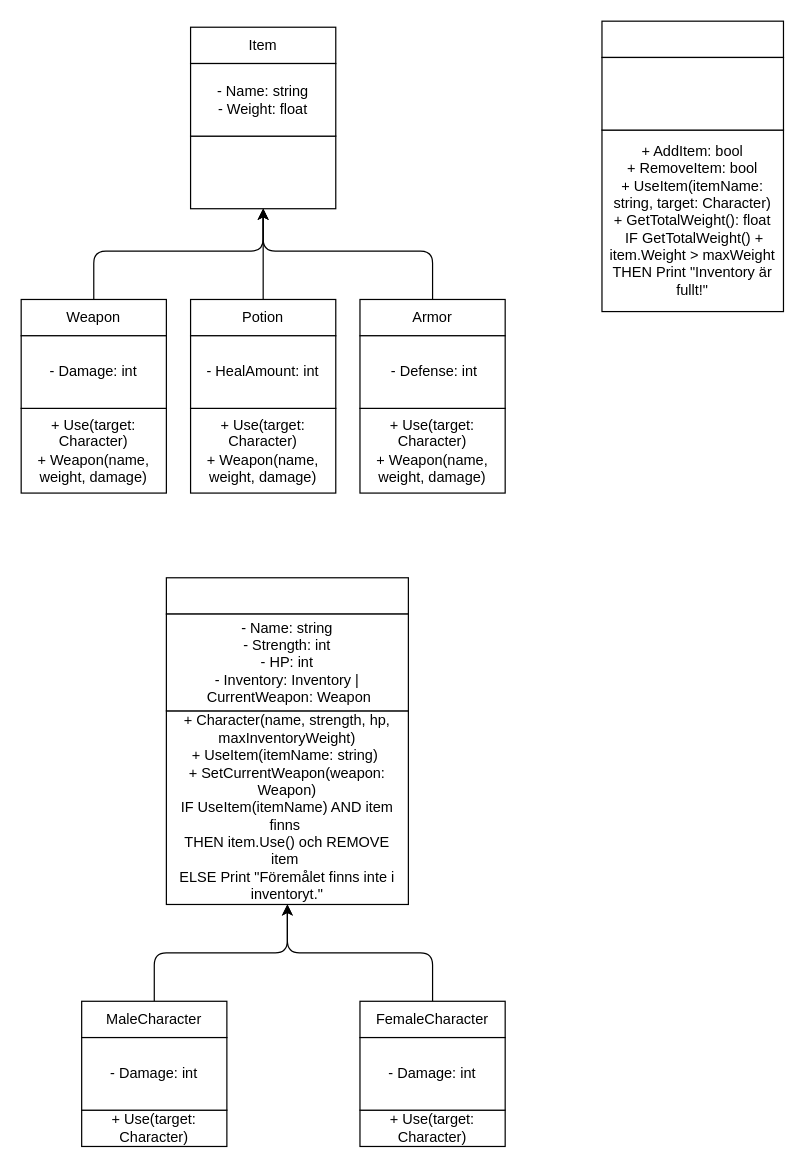
This 805x1168 diagram has some shape labels left out. The centre of each missing label's shape, as x and y in pixels:
"+ Item(name, weight) + Use(target: Character) (abstract)" belongs at (x=262, y=172).
"- items: List<Item> - maxWeight: float" belongs at (x=692, y=93).
"Character" belongs at (x=286, y=595).
"Inventory" belongs at (x=692, y=38).
